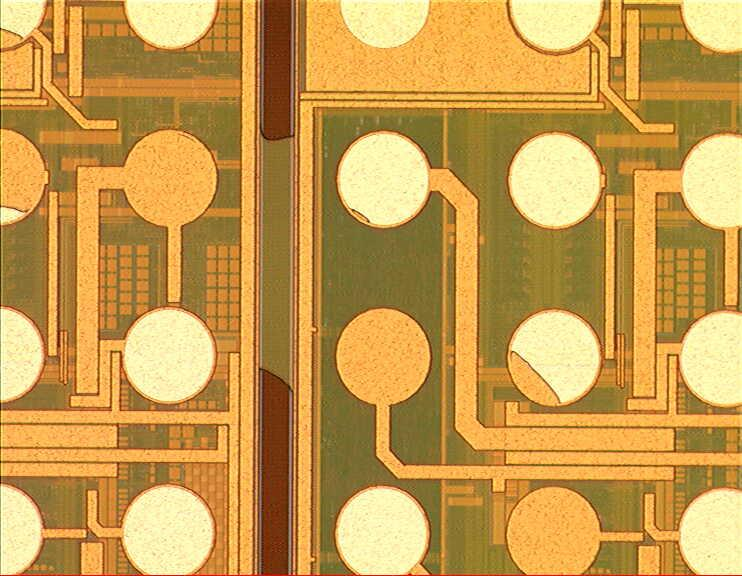COATING BAD: (1, 28, 638, 576)
